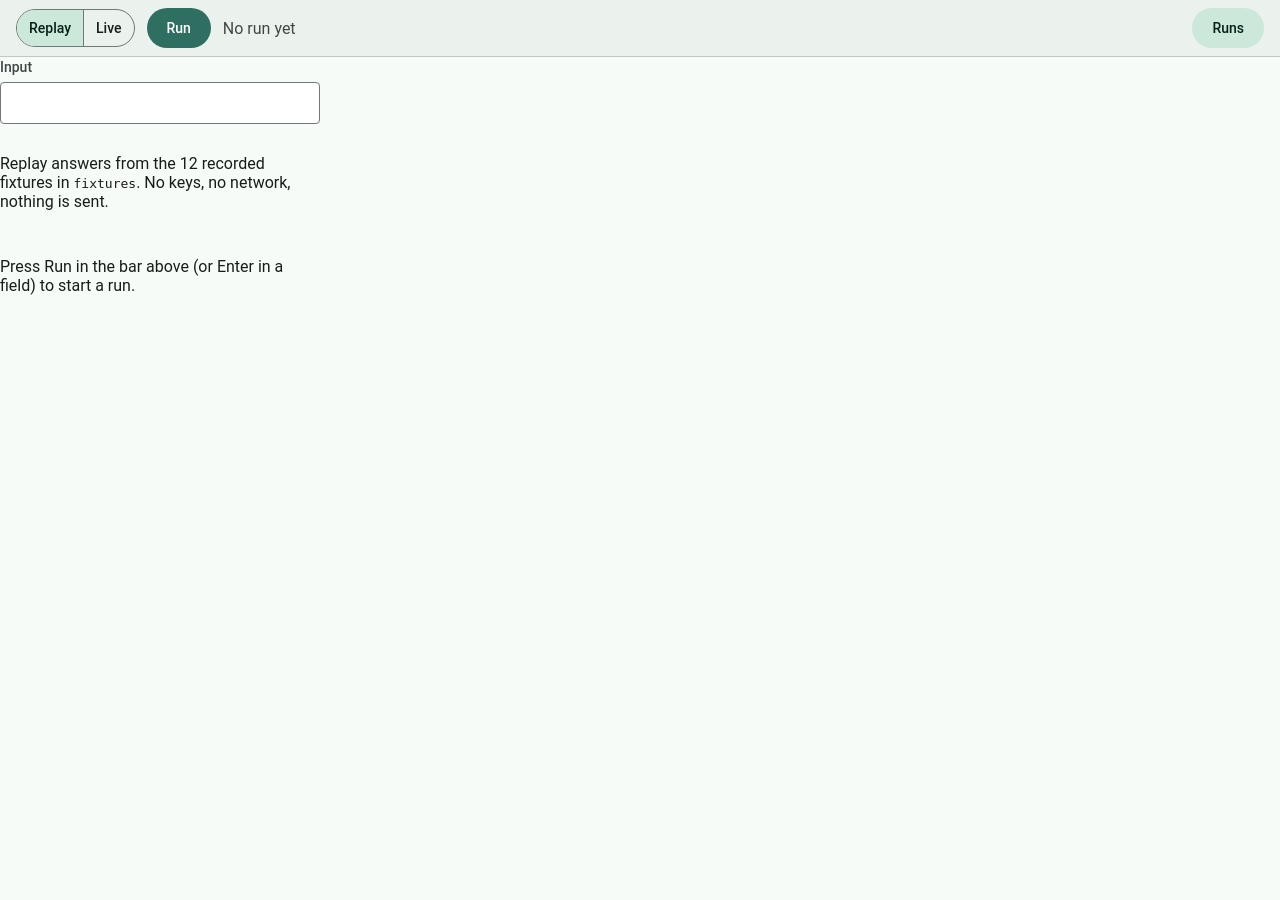
Test: RunPanel modes › asks before a live run with a side-effecting tool, and starts only on confirm
Click the button "Live" at (109, 28), box 84,10 -> 134,46
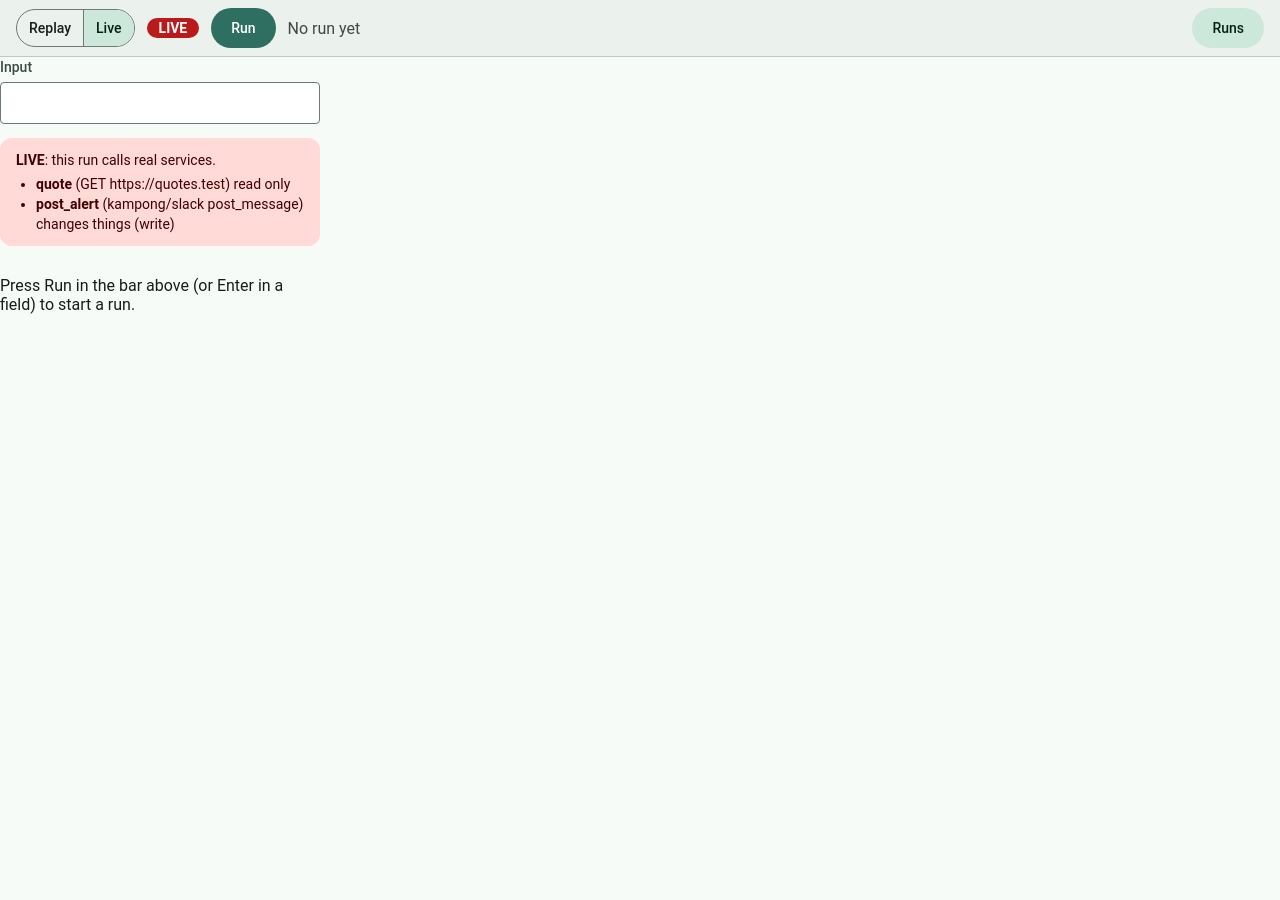
Click the button "Run" at (243, 28), box 211,8 -> 276,48
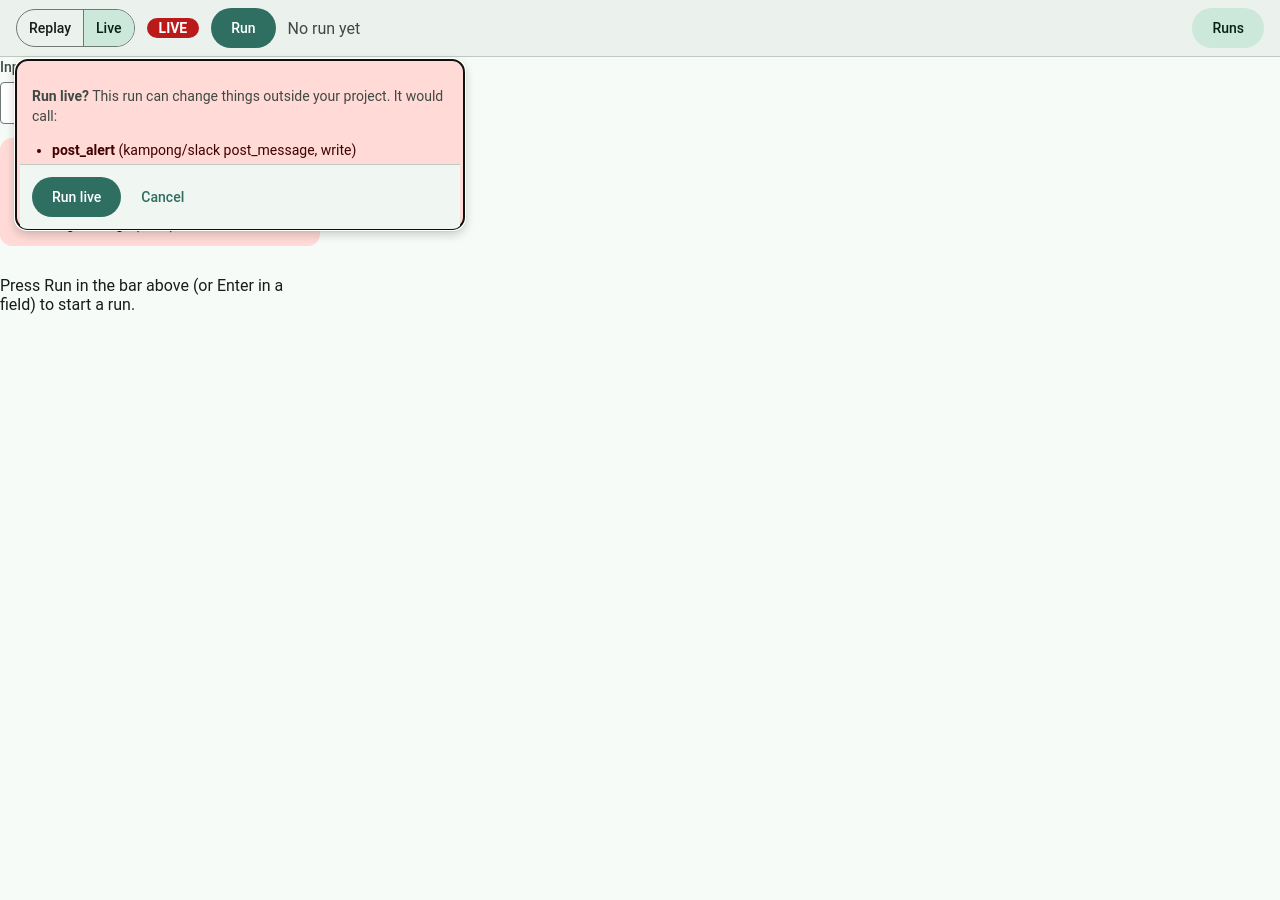
Expected: the dialog "Run live?" does not show "quote"
Now the dialog "Run live?" shows "post_alert", box 52,142 -> 115,158
Click the button "Cancel" at (163, 197), box 129,177 -> 196,217
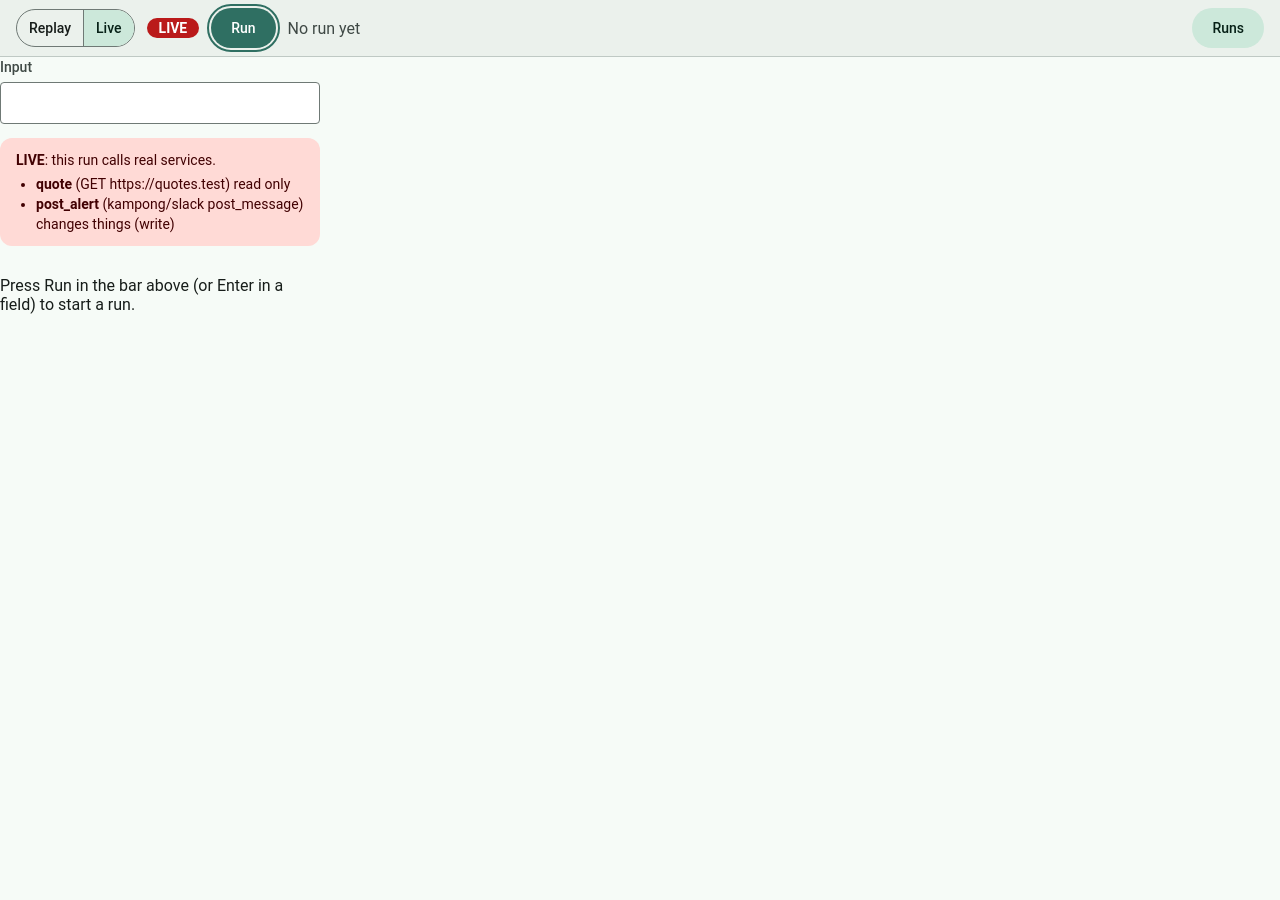
Now the dialog is gone
Click the button "Run" at (243, 28), box 211,8 -> 276,48
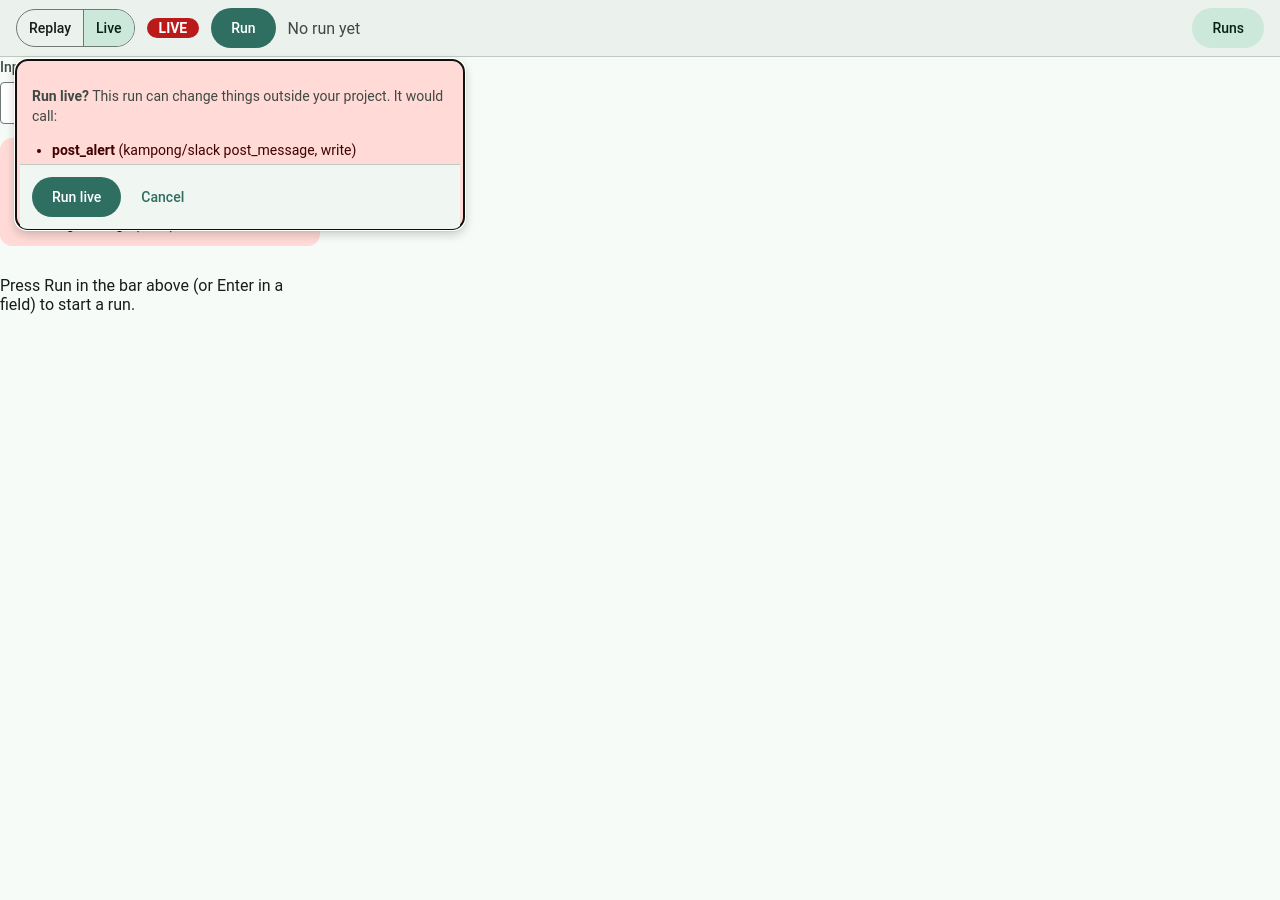
Click the button "Run live" at (77, 197), box 32,177 -> 121,217
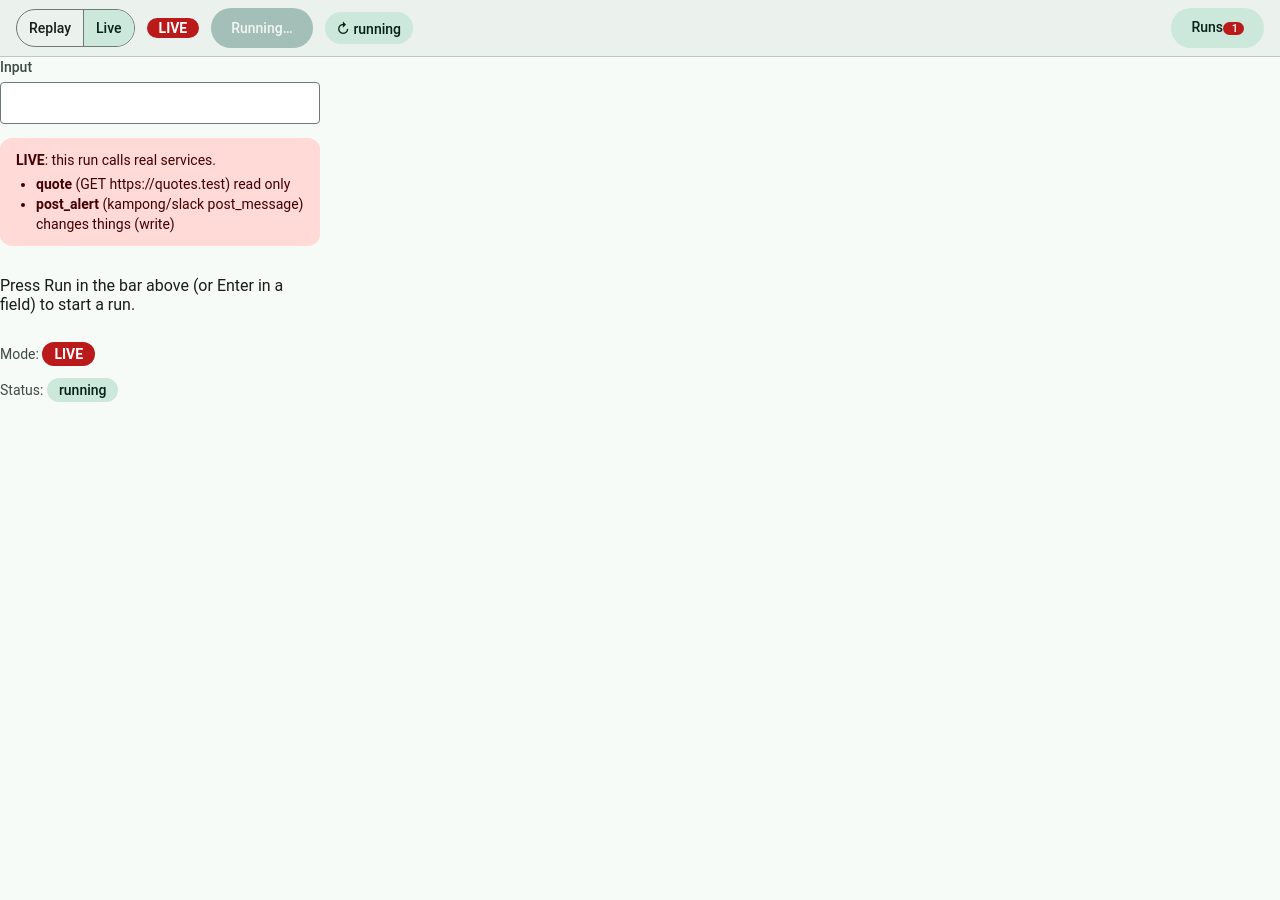
Now the element with test id "run-mode" shows "LIVE", box 54,346 -> 83,362
